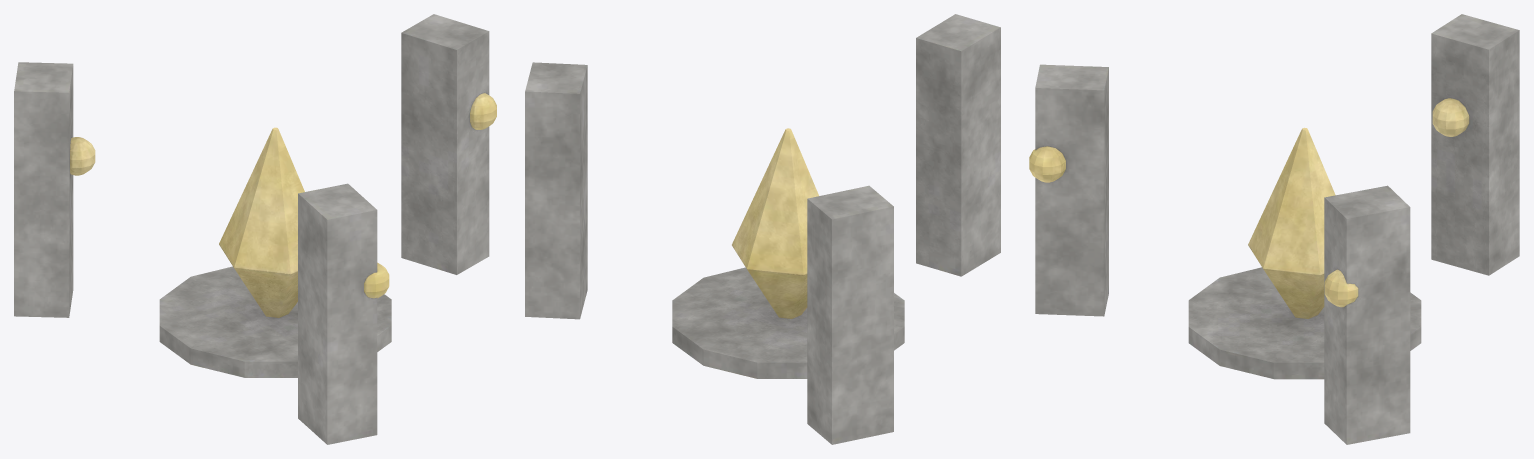
Rendered from res_all_3.glb.
The picture shows the model from 3 angles, left to right: view 1: azimuth 30°, elevation 25°; view 2: azimuth 150°, elevation 25°; view 3: azimuth 270°, elevation 25°; orthographic projection.
Visible parts, largest first — view 1: dilek; view 2: dilek; view 3: dilek.
Part boxes in pixels (box(x1,y1,x2,y2)): dilek: box(14, 14, 496, 444); dilek: box(525, 14, 1000, 444); dilek: box(1029, 14, 1519, 444).
Bounding box in the file's own units: 0.8103 × 0.414 × 0.8135.
1 material, 1 textured.
